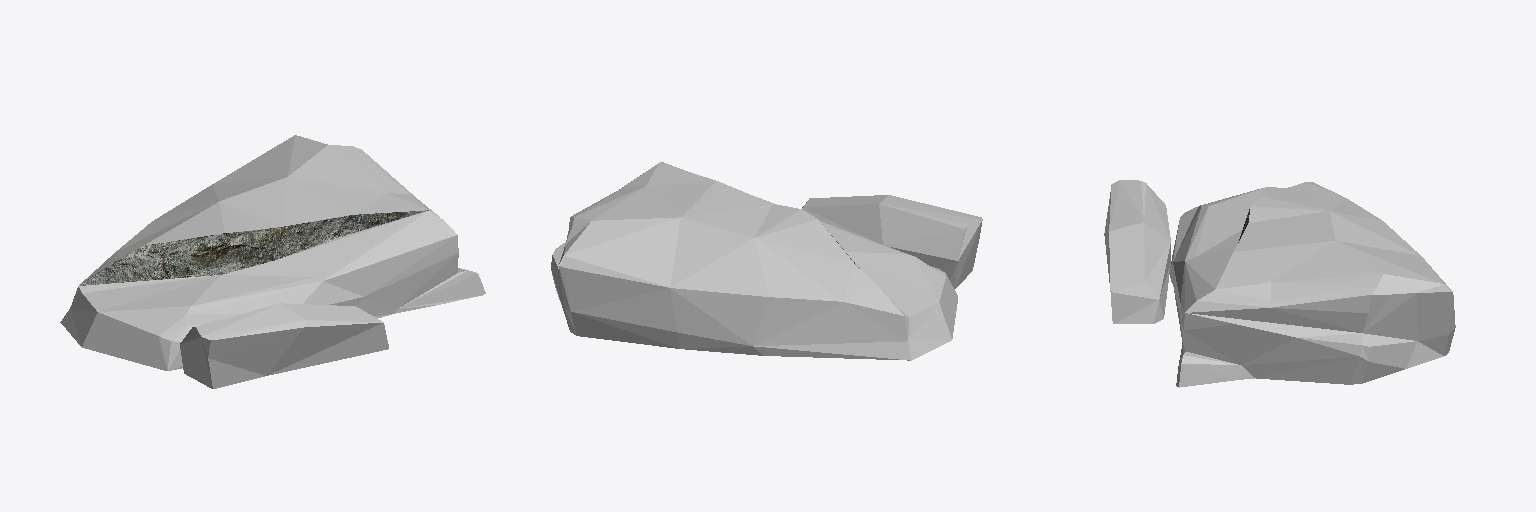
3 views of the same model, side by side, from view 1: azimuth 30°, elevation 25°; view 2: azimuth 150°, elevation 25°; view 3: azimuth 270°, elevation 25° (orthographic).
Parts seen in each view (by area): view 1: outcropE; view 2: outcropE; view 3: outcropE.
Boxes of the visible parts, box(x1,y1,x2,y2) form: outcropE: box(60, 135, 485, 388); outcropE: box(551, 162, 982, 360); outcropE: box(1104, 180, 1455, 387).
Bounding box in the file's own units: 19.43 × 4.59 × 16.48.
Materials: 2 (1 with a texture image).